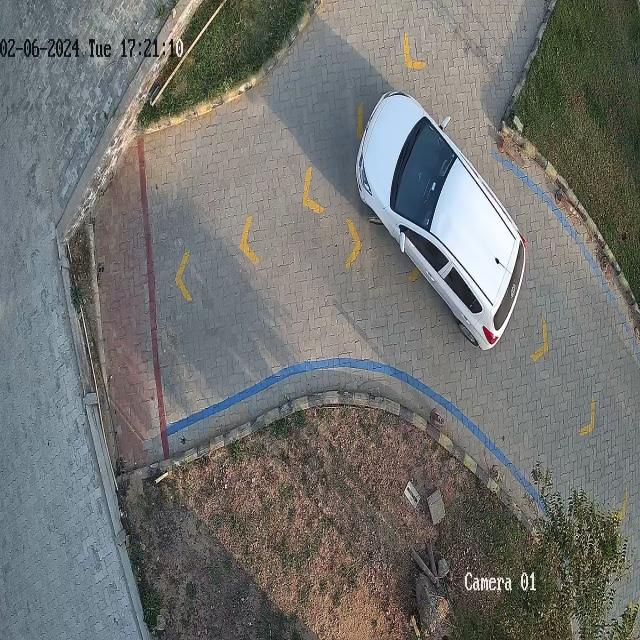car: (355, 89, 528, 351)
